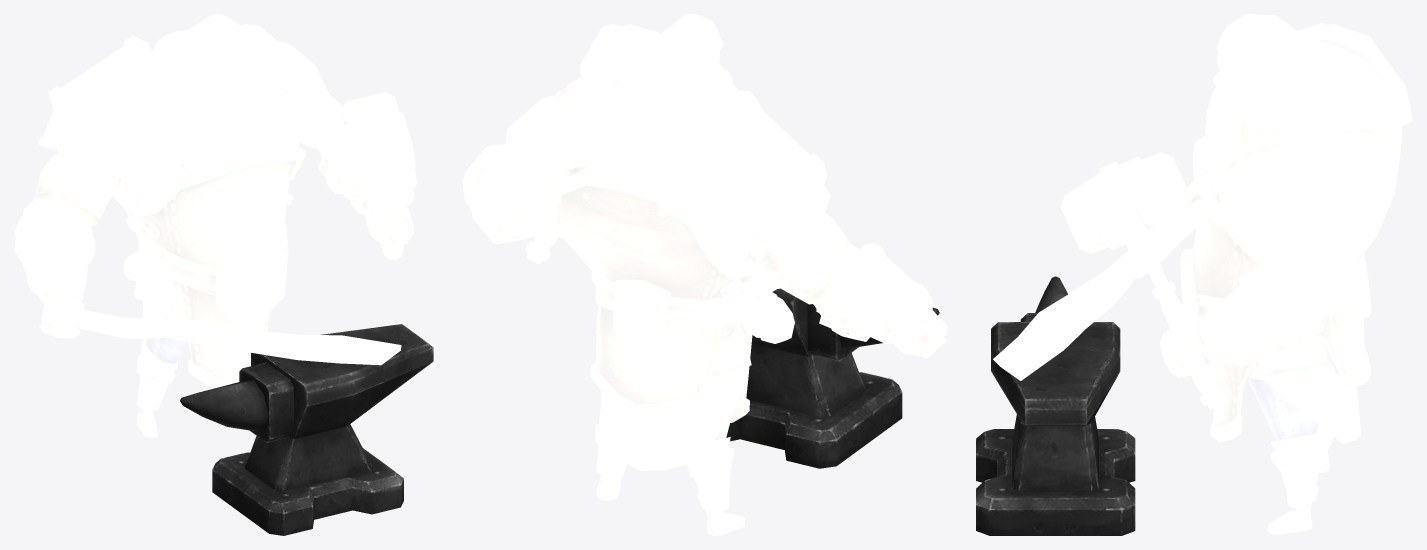
The model's file is npc_craft.glb.
The picture shows the model from 3 angles, left to right: view 1: azimuth 30°, elevation 25°; view 2: azimuth 150°, elevation 25°; view 3: azimuth 270°, elevation 25°; orthographic projection. The views are drawn at different scales.
Visible parts, largest first — view 1: m_Mesh_02 - Default_0, LO_Anvil_09 - Default_0; view 2: m_Mesh_02 - Default_0, LO_Anvil_09 - Default_0; view 3: m_Mesh_02 - Default_0, LO_Anvil_09 - Default_0.
Boxes of the visible parts, <box> form: m_Mesh_02 - Default_0: <box>14,14,416,437</box>; LO_Anvil_09 - Default_0: <box>180,324,433,535</box>; m_Mesh_02 - Default_0: <box>462,14,947,535</box>; LO_Anvil_09 - Default_0: <box>726,288,939,468</box>; m_Mesh_02 - Default_0: <box>993,14,1412,534</box>; LO_Anvil_09 - Default_0: <box>976,276,1135,535</box>.
Size of the model in its own units: 52.53 by 54.12 by 44.59.
2 materials, 2 textured.
